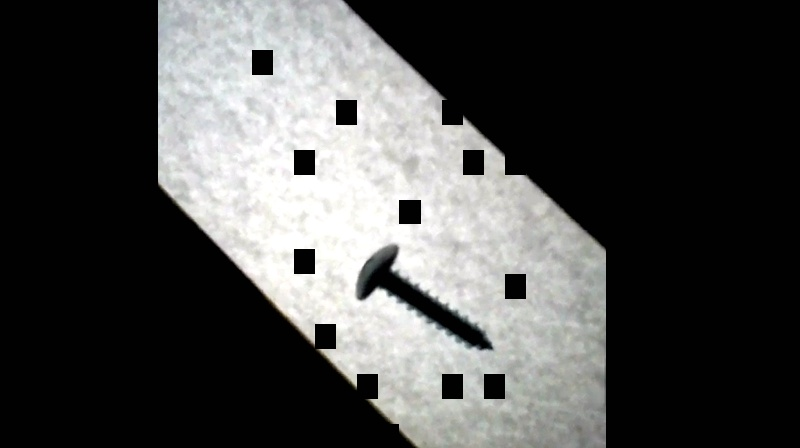S003: (353, 240, 497, 354)
